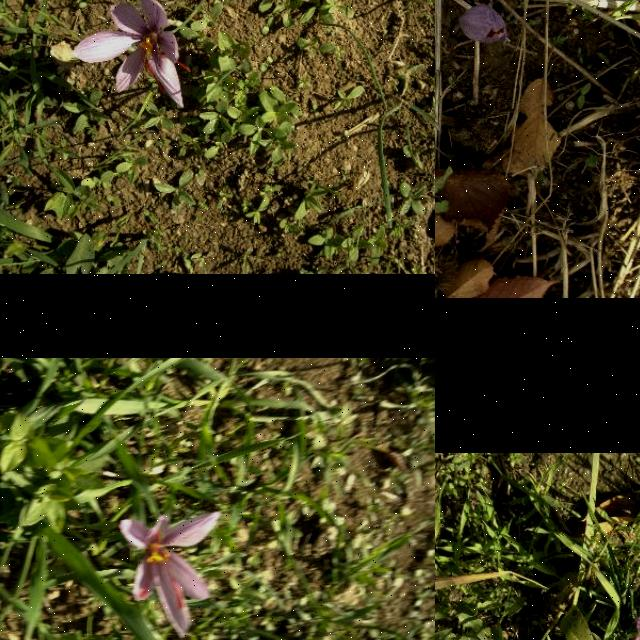flower: (120, 512, 224, 638), (71, 0, 191, 107), (457, 6, 507, 44)
